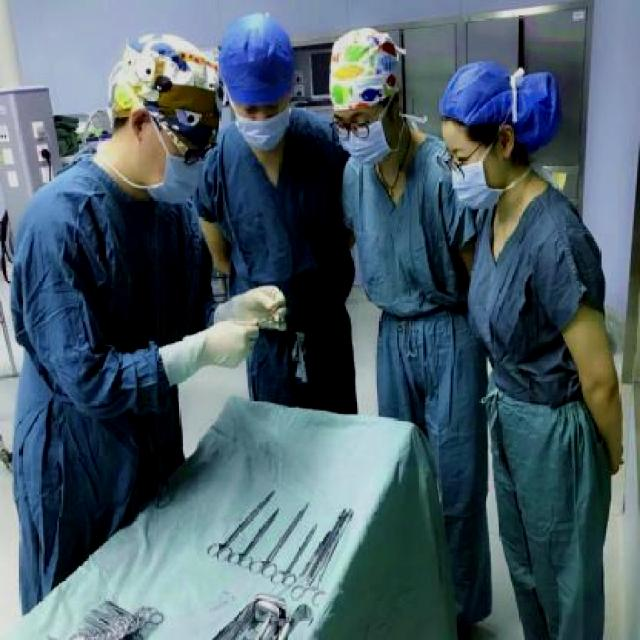face_mask: (437, 124, 515, 224), (137, 123, 203, 215), (330, 96, 396, 172), (236, 95, 290, 148)
glasses: (327, 113, 375, 145), (434, 148, 468, 182)
hand_glove: (232, 282, 291, 332), (210, 317, 258, 371)
person: (0, 26, 219, 595), (451, 64, 608, 640), (312, 0, 460, 451), (210, 17, 332, 394)
